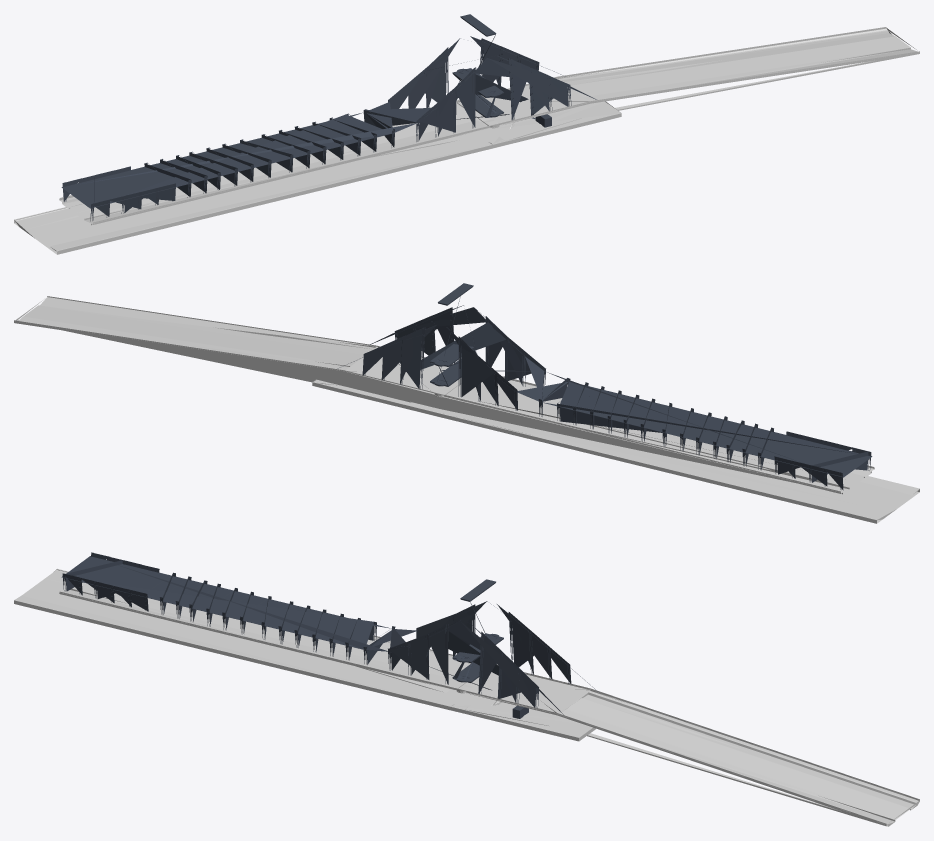
Rendered from street_island1_00.glb.
The picture shows the model from 3 angles, top to bottom: view 1: azimuth 30°, elevation 25°; view 2: azimuth 150°, elevation 25°; view 3: azimuth 330°, elevation 25°; orthographic projection.
Visible parts, largest first — view 1: seg_1186, seg_605, seg_604, seg_1306, seg_1184; view 2: seg_1186, seg_605, seg_604, seg_1306, seg_1184; view 3: seg_605, seg_1186, seg_604, seg_1306, seg_1184.
Boxes of the visible parts, left/top/right/bottom form: seg_1186: left=61, top=36, right=596, bottom=221; seg_605: left=59, top=27, right=919, bottom=225; seg_604: left=14, top=101, right=621, bottom=254; seg_1306: left=59, top=27, right=919, bottom=223; seg_1184: left=452, top=14, right=503, bottom=117; seg_1186: left=337, top=305, right=872, bottom=490; seg_605: left=14, top=297, right=874, bottom=494; seg_604: left=312, top=379, right=919, bottom=523; seg_1306: left=14, top=296, right=874, bottom=492; seg_1184: left=430, top=283, right=476, bottom=386; seg_605: left=59, top=582, right=919, bottom=826; seg_1186: left=61, top=552, right=599, bottom=718; seg_604: left=14, top=568, right=595, bottom=741; seg_1306: left=59, top=591, right=919, bottom=824; seg_1184: left=452, top=579, right=503, bottom=682.
Bounding box in the file's own units: 609 × 82.14 × 52.48.
